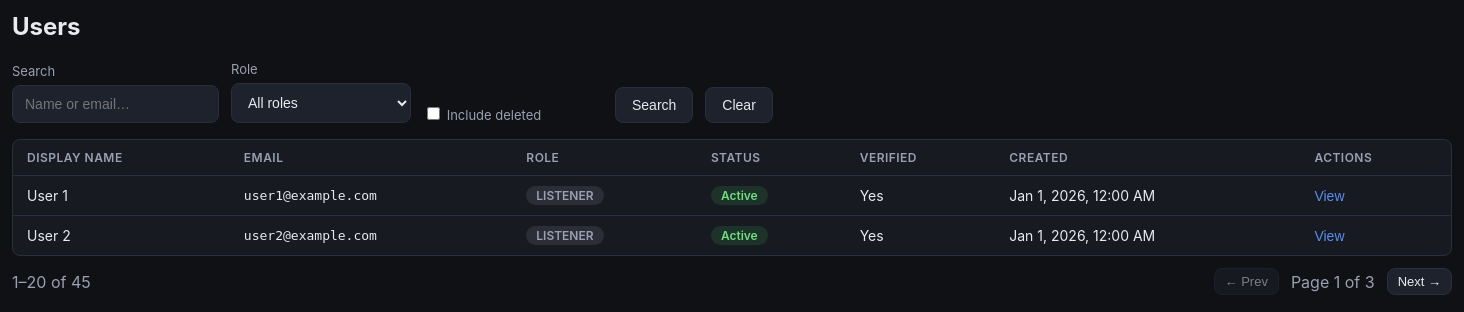
Test case: UsersPage › wires the search box to the q parameter
The width and height of the screenshot is (1464, 312).
Expected: the text "User 1" is shown, top-left (13, 176), bottom-right (230, 216)
In the search field with placeholder "Name or email…": [116, 104] box top-left (12, 85), bottom-right (219, 123), type "alice"
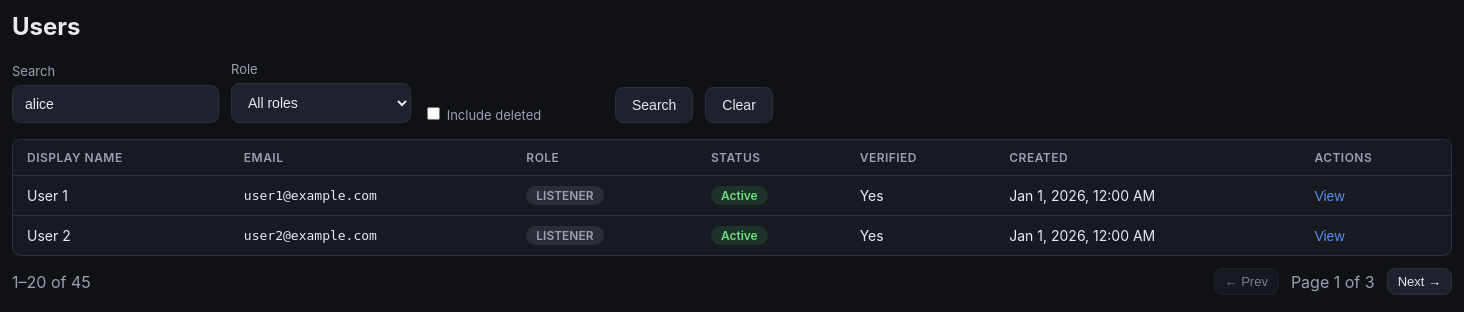
Click the button "Search": [654, 105] box top-left (615, 87), bottom-right (693, 123)
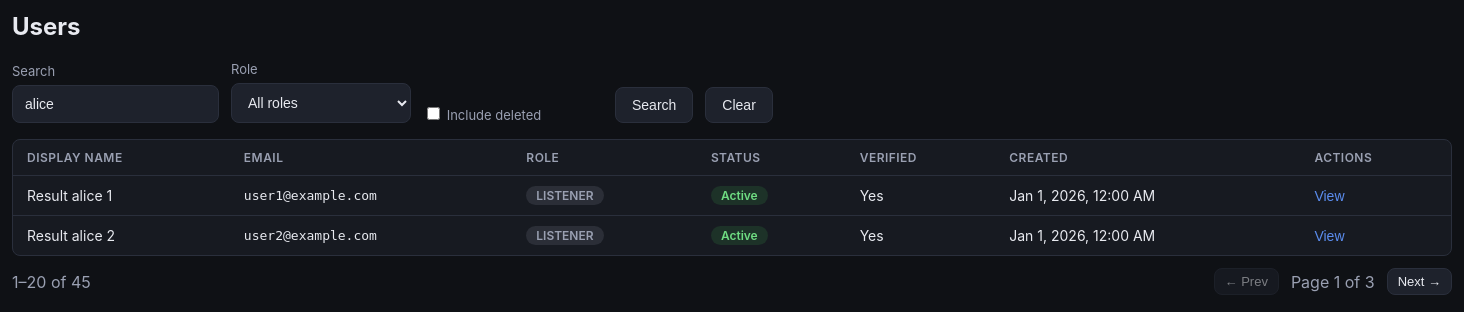
Expected: the text "Result alice 1" is shown, top-left (13, 176), bottom-right (230, 216)
